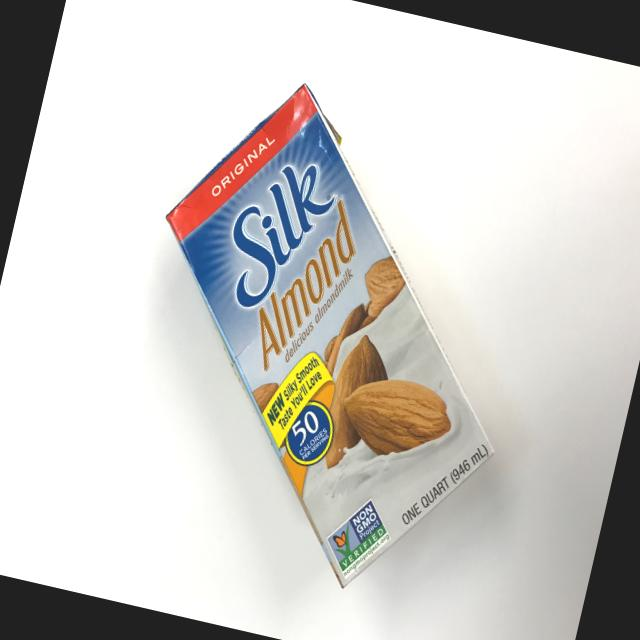Paper: (81, 28, 578, 617)
